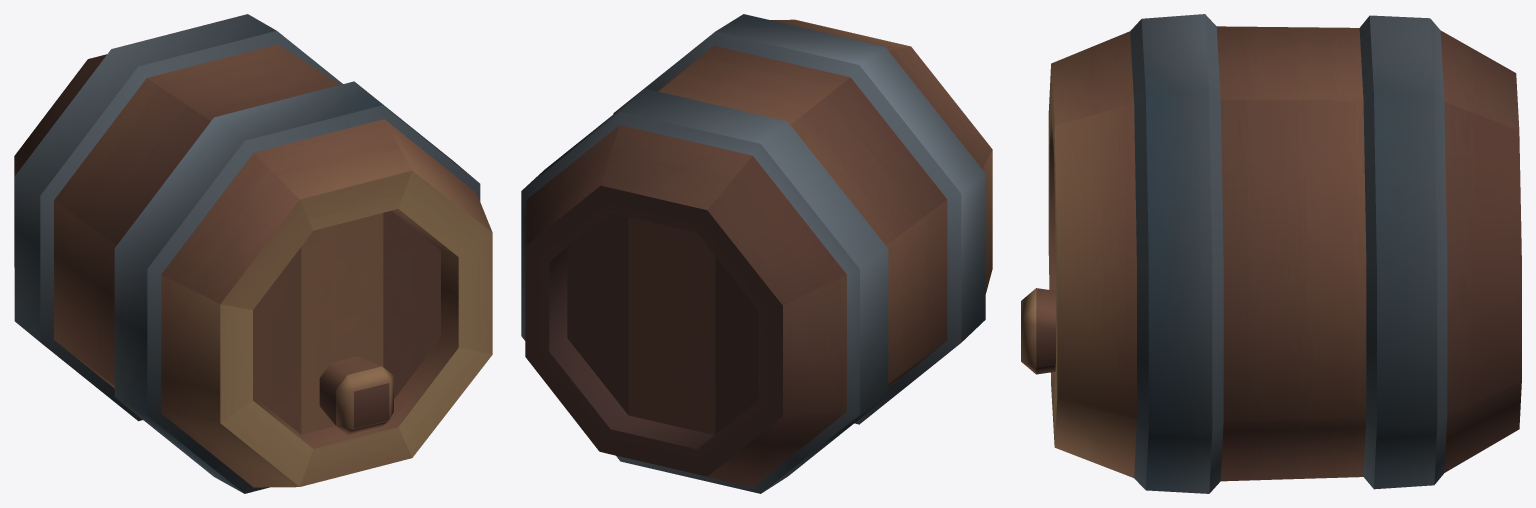
The model's file is kask.fbx.
3 views of the same model, side by side, from view 1: azimuth 30°, elevation 25°; view 2: azimuth 150°, elevation 25°; view 3: azimuth 270°, elevation 25° (orthographic). The views are drawn at different scales.
Parts seen in each view (by area): view 1: kask; view 2: kask; view 3: kask.
Part boxes in pixels (<box>): kask: <box>14,14,492,493</box>; kask: <box>521,14,992,493</box>; kask: <box>1021,14,1521,493</box>.
Bounding box in the file's own units: 91.03 × 90.86 × 103.
